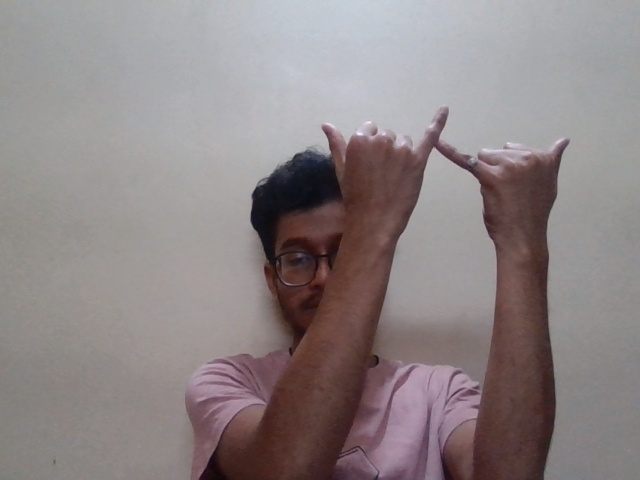today: (313, 104, 580, 230)
